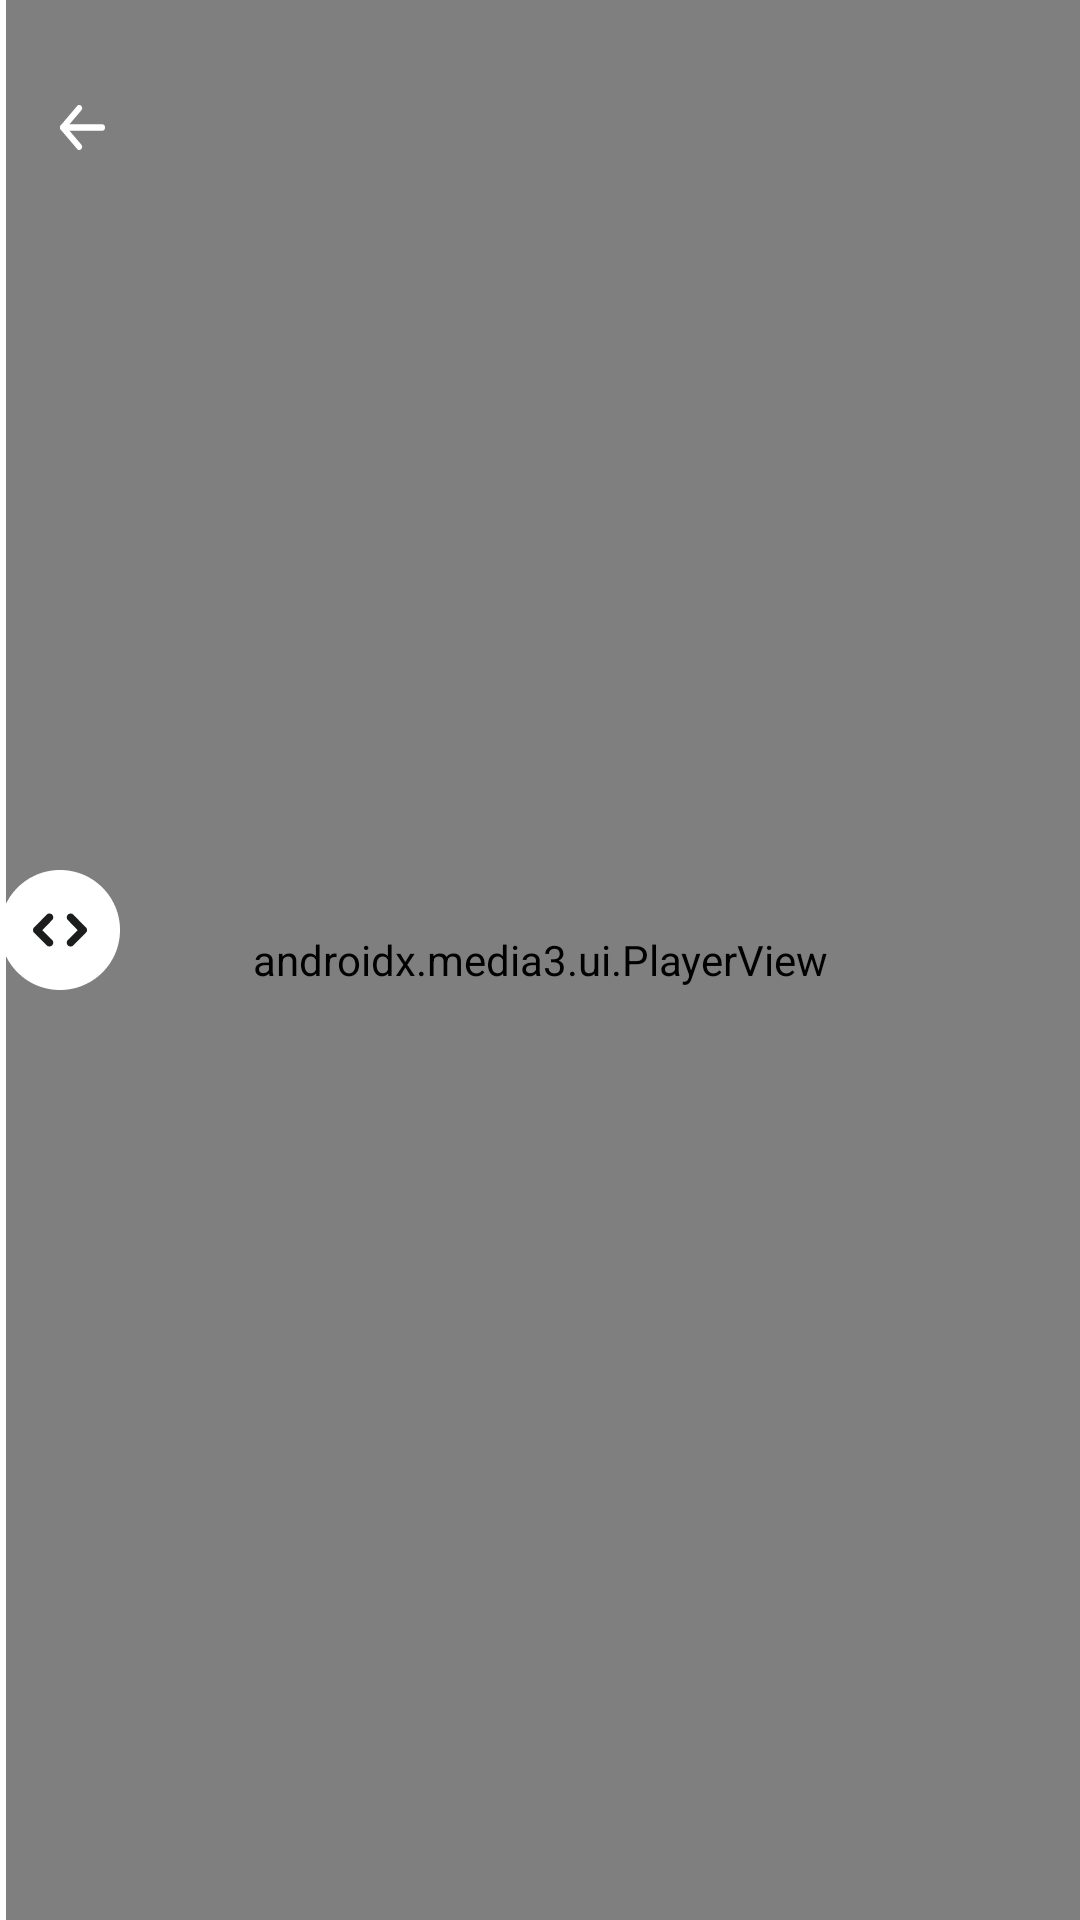

Icons on this 1080×1920 Android screen, each with its box as (x1, y1, x2, y2):
animated seek: (0, 870, 120, 990)
back: (60, 105, 105, 150)
